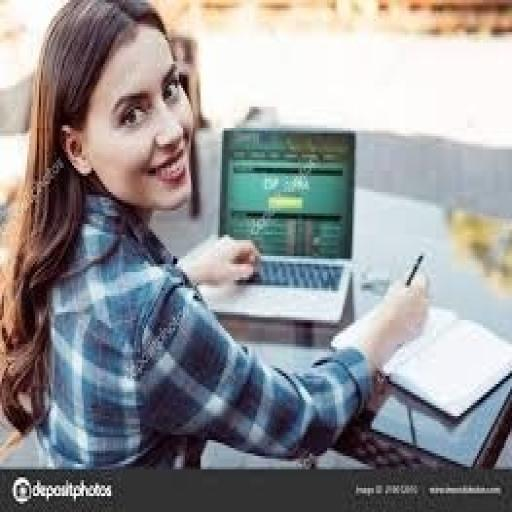using_laptop: (197, 123, 358, 325)
